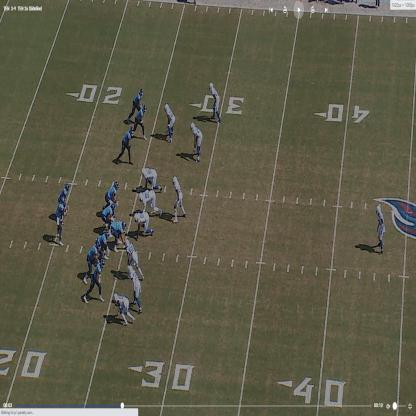CENTER: (110, 221, 124, 246)
DB: (130, 270, 143, 310), (209, 82, 220, 122), (193, 120, 203, 162), (164, 102, 174, 142), (376, 205, 384, 251)
LB: (124, 237, 140, 270), (172, 174, 184, 216)
QB: (56, 195, 66, 242)
SKILL: (91, 255, 103, 298), (121, 124, 134, 160), (130, 87, 143, 112), (137, 103, 147, 135), (63, 180, 72, 202)
